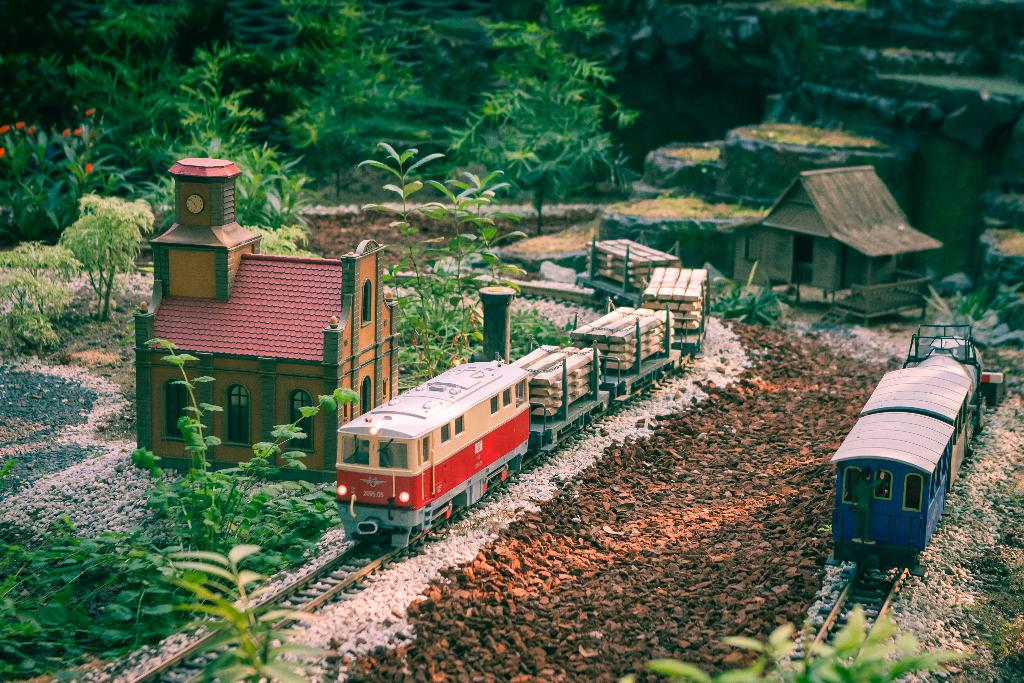train: (335, 231, 709, 547), (831, 319, 1002, 565)
